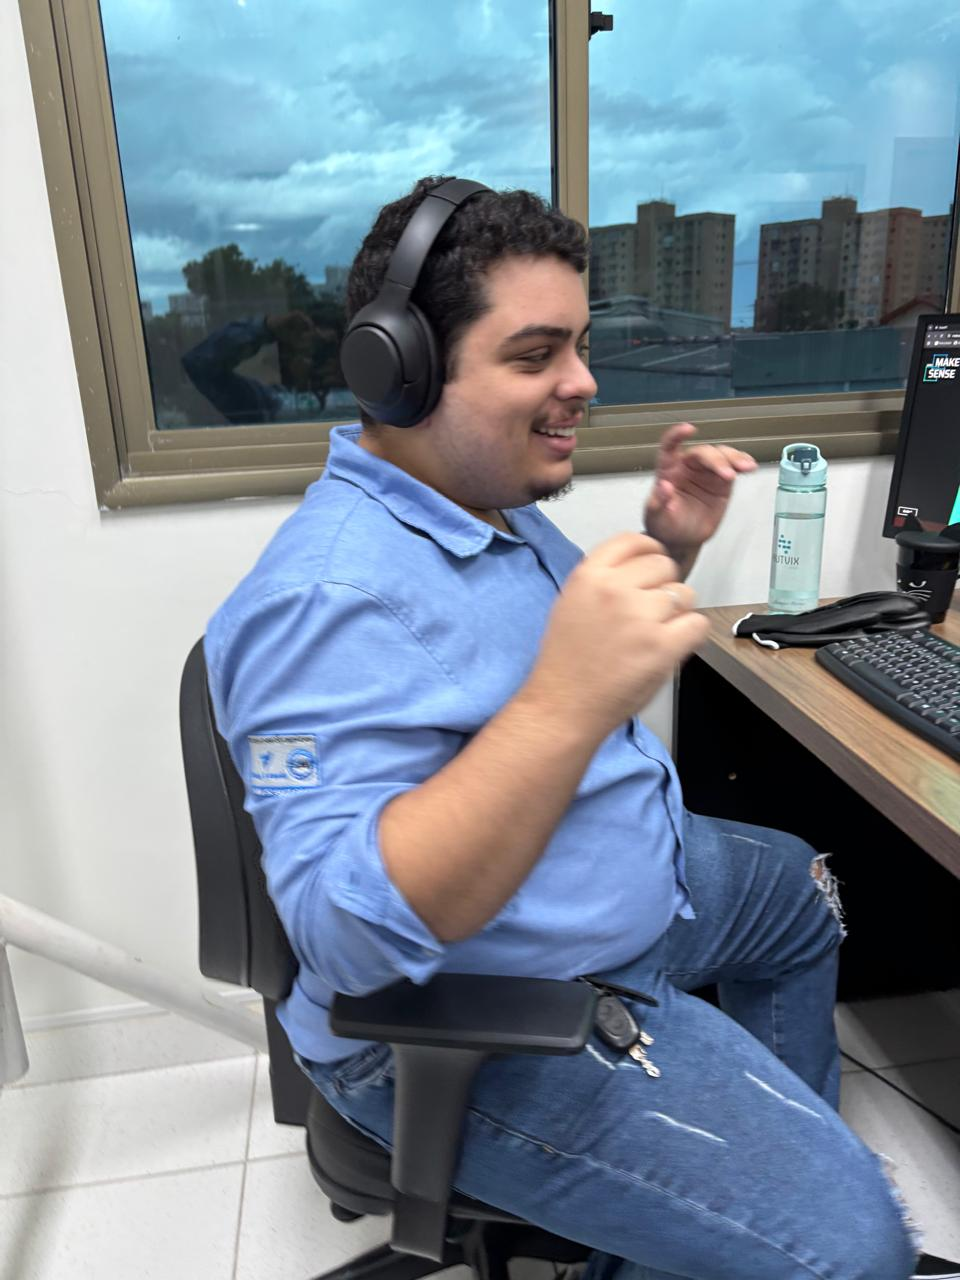no-gloves: (541, 526, 709, 709), (645, 412, 759, 544)
